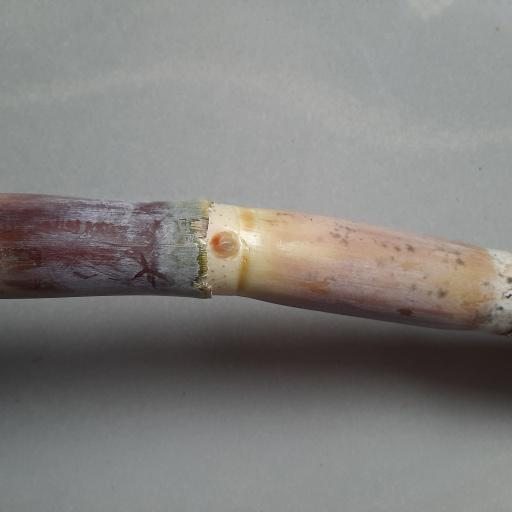Bud: (209, 228, 242, 263)
